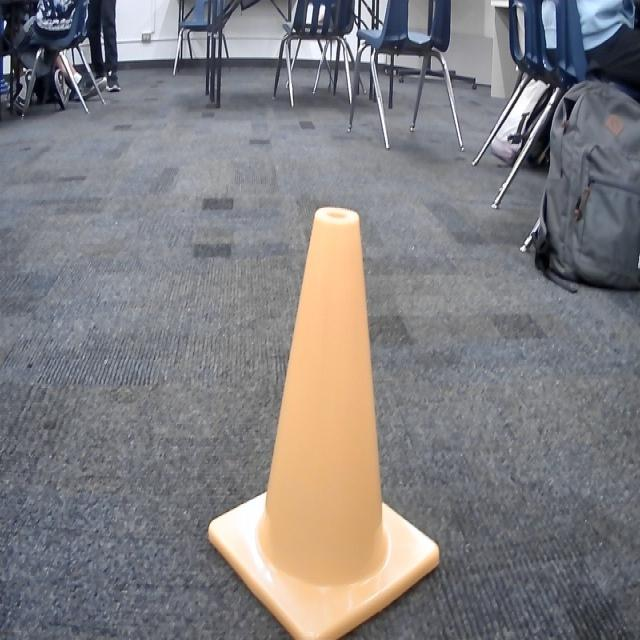cone: (202, 202, 440, 640)
